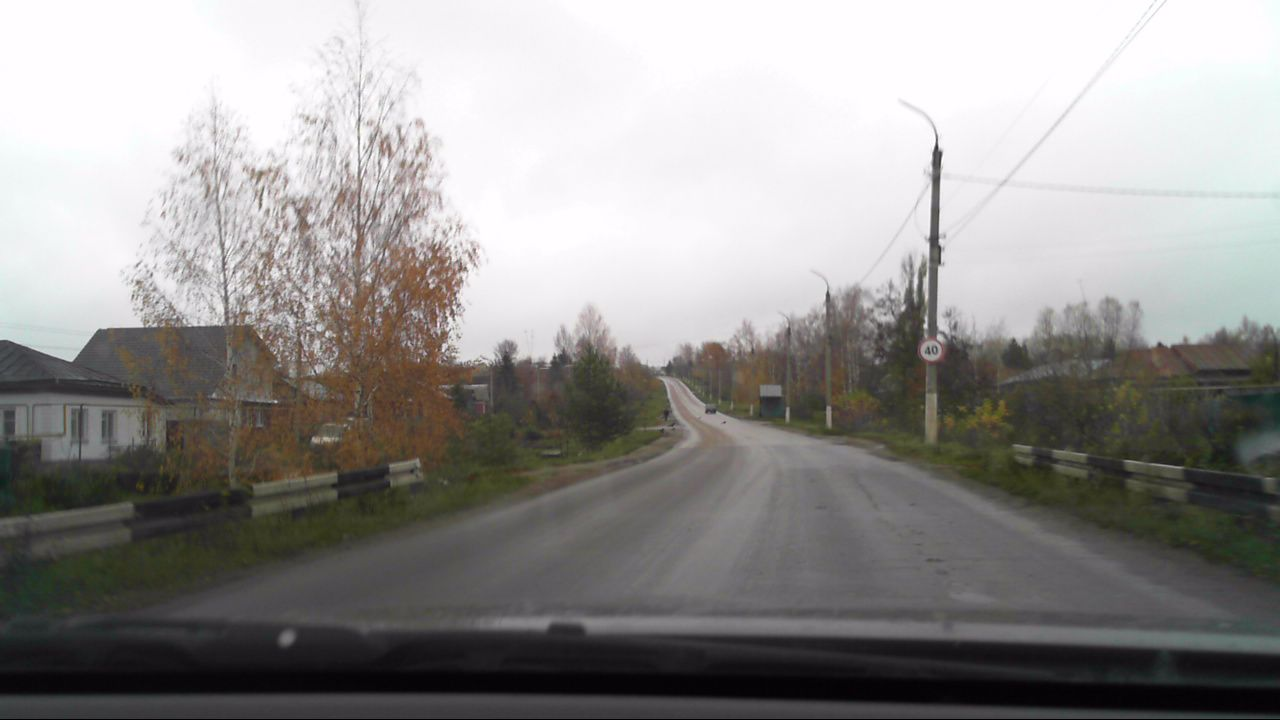speed_warning_40: (917, 337, 944, 364)
